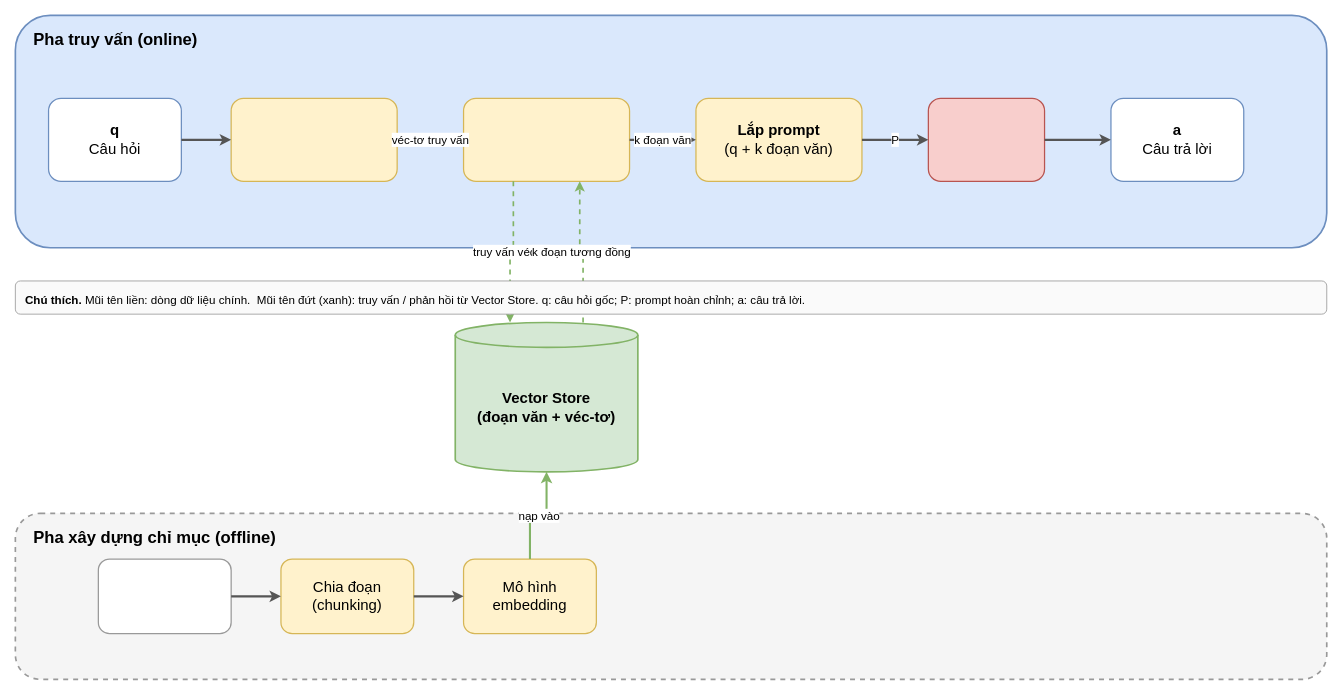
Some shapes in this 1341 by 694 pixel diagram are drawn without their labels. Here are the shapes that lost their labels. From the top down, the centre of each, then its label:
the point at 313,139: Mã hoá câu hỏi (embedding model)
the point at 546,139: Tìm top-k tương đồng véc-tơ
the point at 986,139: LLM
the point at 164,596: Tài liệu văn bản
